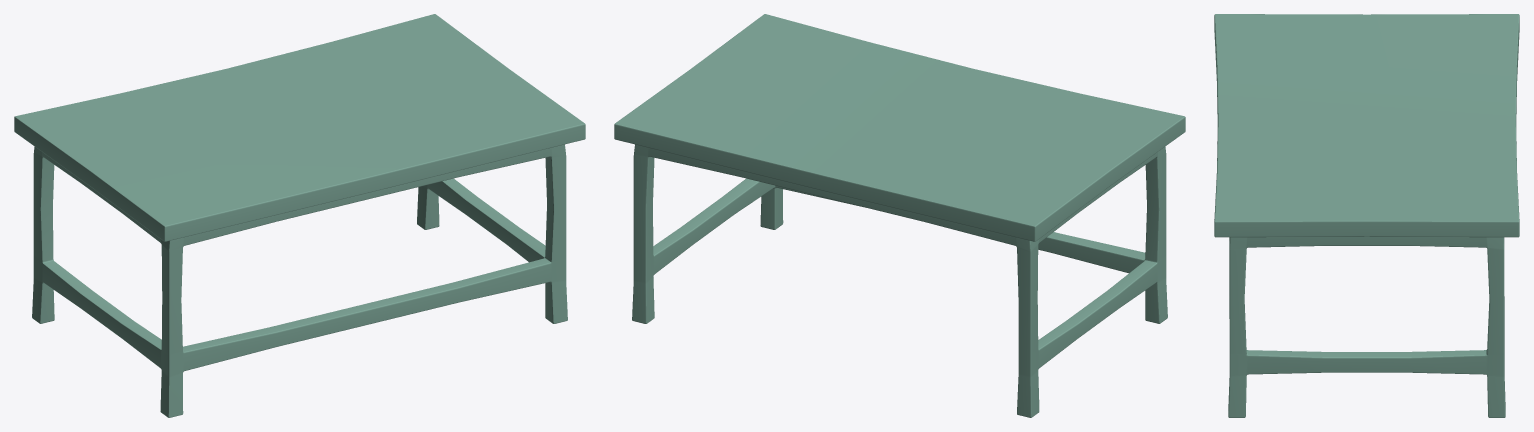
The model's file is DeskHigh.fbx.
3 views of the same model, side by side, from view 1: azimuth 30°, elevation 25°; view 2: azimuth 150°, elevation 25°; view 3: azimuth 270°, elevation 25° (orthographic).
Parts seen in each view (by area): view 1: pCube9; view 2: pCube9; view 3: pCube9.
Boxes of the visible parts, x1=… form: pCube9: x1=14, y1=14, x2=585, y2=417; pCube9: x1=614, y1=14, x2=1185, y2=417; pCube9: x1=1214, y1=14, x2=1519, y2=417.
Size of the model in its own units: 1.24 by 0.5629 by 0.77.
